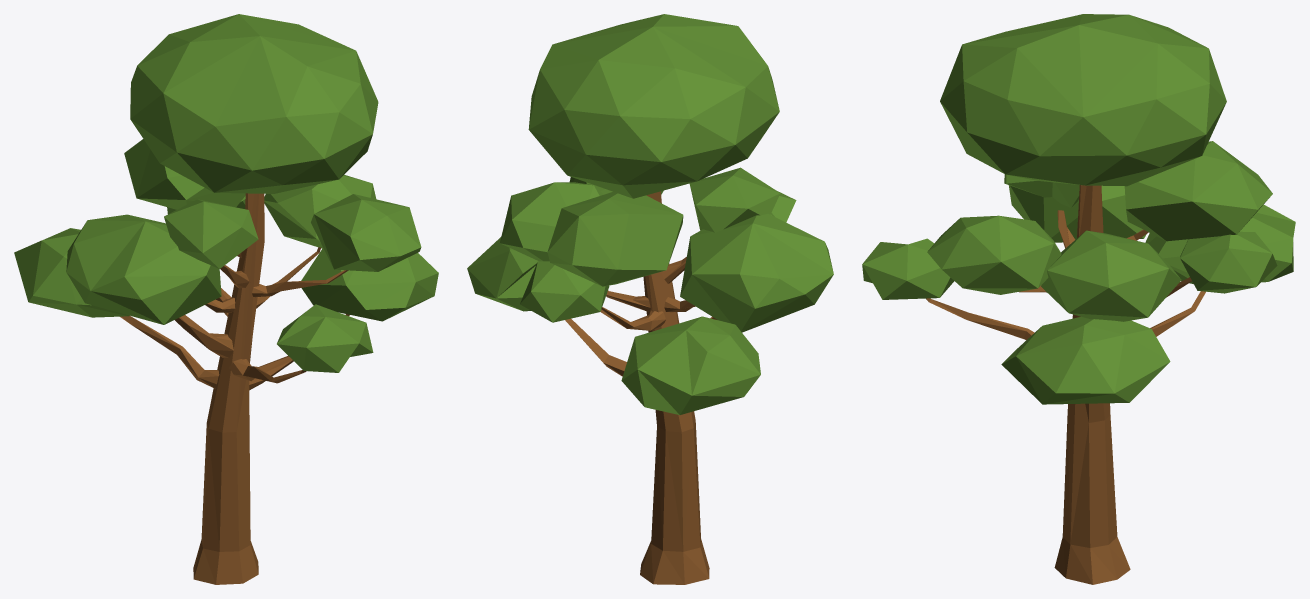
The model's file is tree_n5.glb.
The picture shows the model from 3 angles, left to right: view 1: azimuth 30°, elevation 25°; view 2: azimuth 150°, elevation 25°; view 3: azimuth 270°, elevation 25°; orthographic projection. The views are drawn at different scales.
Parts seen in each view (by area): view 1: Object_52, Object_48, Object_50; view 2: Object_52, Object_48, Object_50; view 3: Object_52, Object_48, Object_50.
Boxes of the visible parts, left/top/right/bottom form: Object_52: left=14, top=14, right=438, bottom=372; Object_48: left=193, top=193, right=264, bottom=584; Object_50: left=120, top=247, right=349, bottom=390; Object_52: left=467, top=14, right=833, bottom=414; Object_48: left=640, top=191, right=709, bottom=584; Object_50: left=565, top=257, right=716, bottom=376; Object_52: left=862, top=14, right=1295, bottom=404; Object_48: left=1054, top=185, right=1130, bottom=584; Object_50: left=926, top=210, right=1205, bottom=340.
Bounding box in the file's own units: 7.43 × 11 × 7.76.
